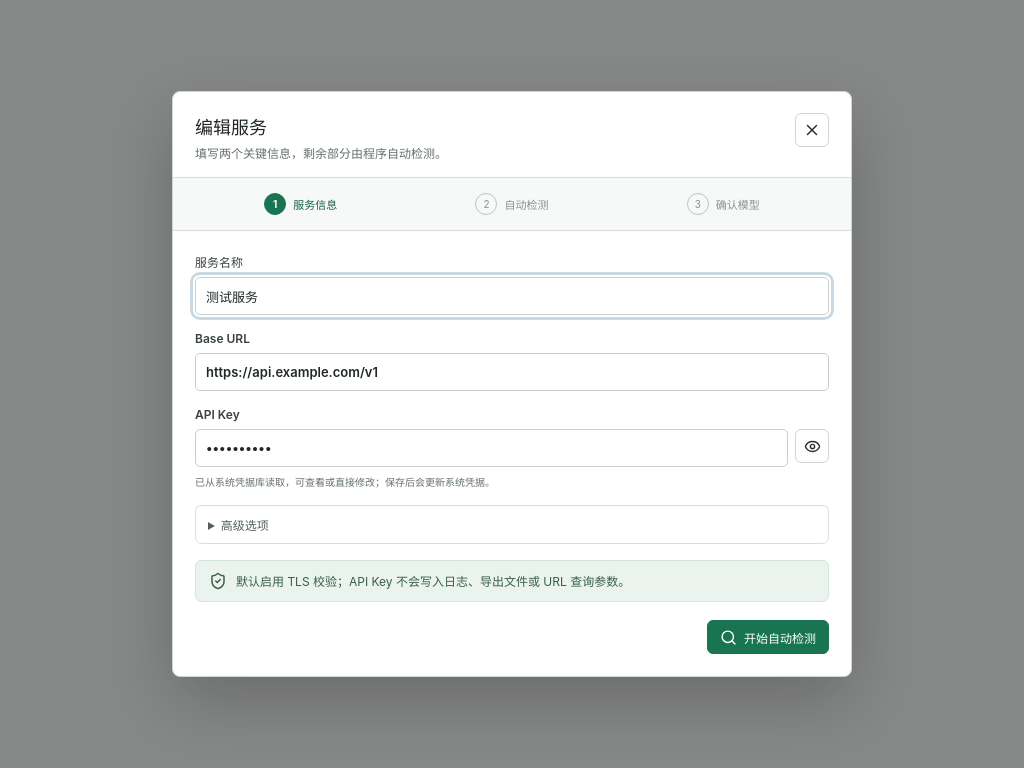
it: ProviderWizard 的验证入口门控 › 没有验证历史的已保存服务显示尚未验证，入口仍在
This screenshot has width=1024, height=768.
Check: the text "已从系统凭据库读取，可查看或直接修改；保存后会更新系统凭据。" is shown, box x1=195 y1=476 x2=495 y2=488
Click the button "开始自动检测": (768, 637) x1=707 y1=620 x2=829 y2=654
(page scrolled)
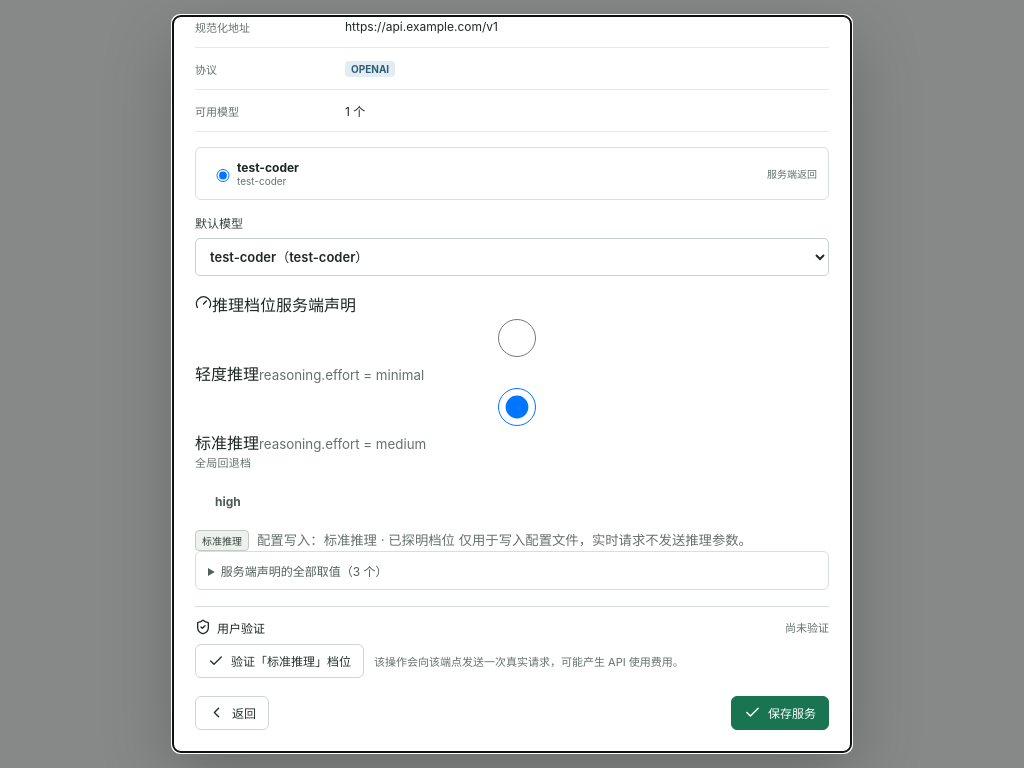
Check: the element labelled "推理档位" is shown, box x1=195 y1=292 x2=829 y2=678
Check: the text "尚未验证" is shown, box x1=785 y1=619 x2=829 y2=635
Check: the button "验证「标准推理」档位" is enabled, box x1=195 y1=644 x2=364 y2=678
